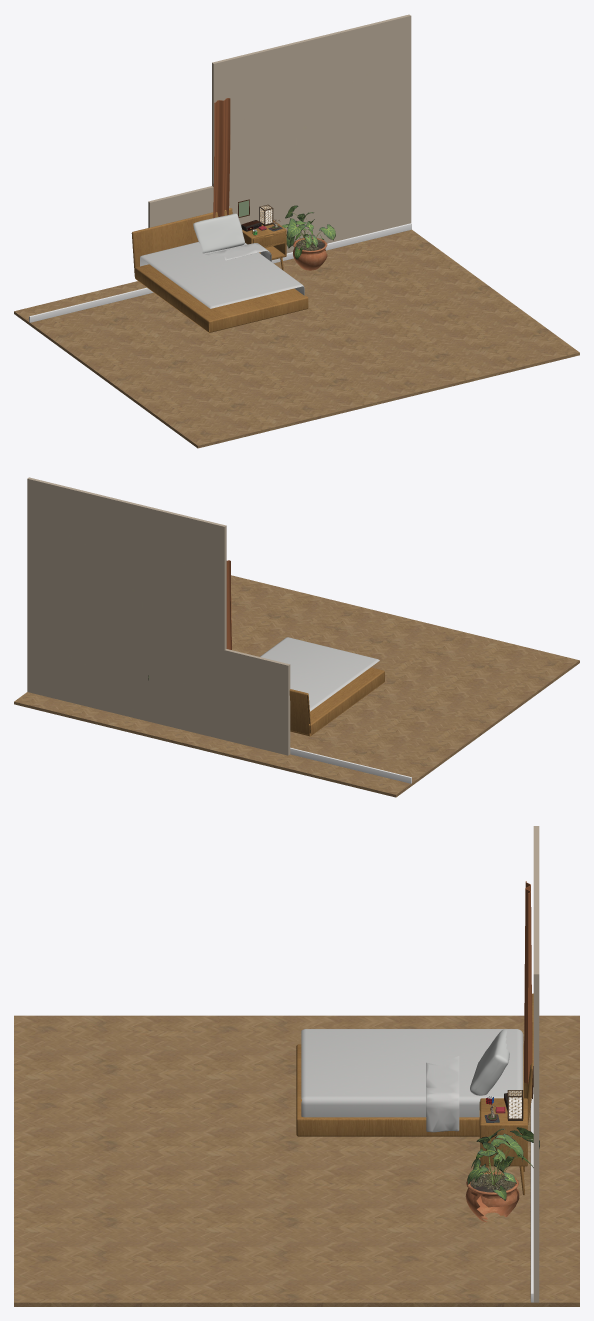
Rendered from donor.glb.
3 views of the same model, one above another, from view 1: azimuth 30°, elevation 25°; view 2: azimuth 150°, elevation 25°; view 3: azimuth 270°, elevation 25° (orthographic). The views are drawn at different scales.
Parts seen in each view (by area): view 1: Floor, WallRight, WallFar, Mattress, BedFrame, Headboard, Curtain1, potted_plant_02, WallBelow, Skirting, Pillow1, Nightstand (+1 smaller); view 2: Floor, WallRight, WallFar, WallBelow, Mattress, BedFrame, Skirting, Headboard, Curtain1; view 3: Floor, Mattress, BedFrame, potted_plant_02, WallFar, SheetFold, Nightstand, Curtain1, Pillow1, Skirting, WallRight.
Part boxes in pixels (<box>): Floor: <box>14,229,579,448</box>; WallRight: <box>212,31,340,253</box>; WallFar: <box>339,14,411,240</box>; Mattress: <box>140,242,304,308</box>; BedFrame: <box>134,264,308,332</box>; Headboard: <box>131,208,232,276</box>; Curtain1: <box>213,98,230,218</box>; potted_plant_02: <box>282,205,335,270</box>; WallBelow: <box>148,186,213,227</box>; Skirting: <box>29,223,411,322</box>; Pillow1: <box>193,213,244,253</box>; Nightstand: <box>242,220,286,270</box>; Floor: <box>14,575,579,797</box>; WallRight: <box>97,494,226,739</box>; WallFar: <box>27,477,98,708</box>; WallBelow: <box>224,649,290,755</box>; Mattress: <box>260,637,379,711</box>; BedFrame: <box>290,667,384,736</box>; Skirting: <box>290,747,411,783</box>; Headboard: <box>289,689,311,734</box>; Curtain1: <box>226,560,231,649</box>; Floor: <box>14,1015,579,1306</box>; Mattress: <box>301,1029,523,1117</box>; BedFrame: <box>296,1044,523,1136</box>; potted_plant_02: <box>465,1127,539,1222</box>; WallFar: <box>533,921,539,1302</box>; SheetFold: <box>426,1056,459,1132</box>; Nightstand: <box>479,1098,527,1195</box>; Curtain1: <box>524,881,532,1086</box>; Pillow1: <box>470,1029,509,1095</box>; Skirting: <box>530,1087,533,1302</box>; WallRight: <box>533,826,539,921</box>.
Bounding box in the file's own units: 60 × 32.4 × 50.
Materials: 48 (11 with a texture image).
